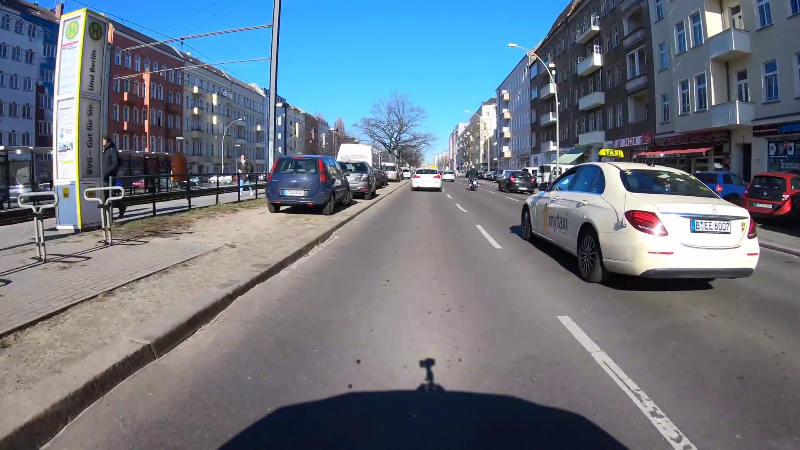Plate: (688, 218, 733, 233), (281, 188, 306, 197)
